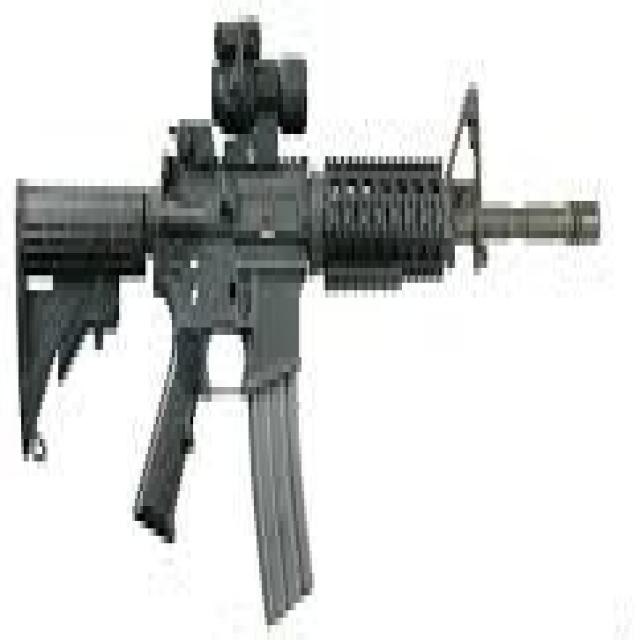rifle: (11, 14, 606, 633)
